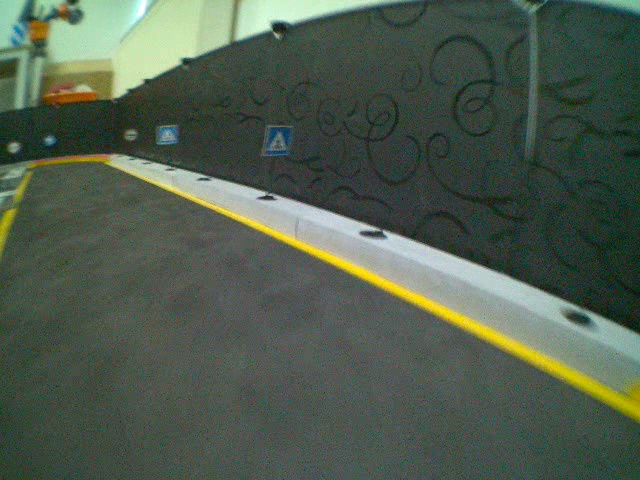crossing: (261, 122, 296, 160), (154, 124, 179, 147)
